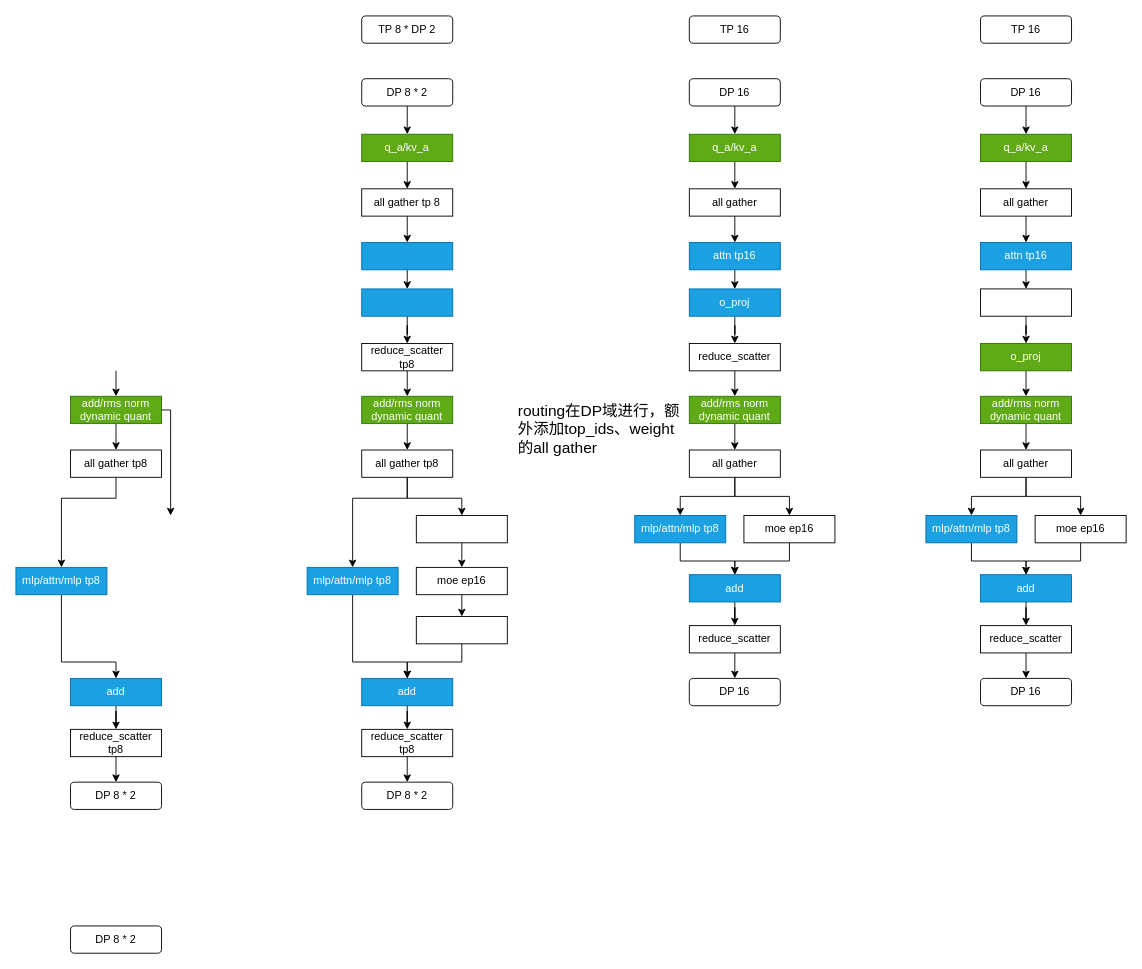
Image size: 1142x969. Some labels were removed from this diagram. The box of each missing label's shape, as (x1, y1, x2, y2) in pixels:
all gather tp2跨机: (415, 515, 507, 543)
all2all: (980, 288, 1072, 316)
attn tp8: (361, 242, 453, 270)
o_proj tp8: (361, 288, 453, 316)
rs tp2跨机: (415, 616, 507, 644)
